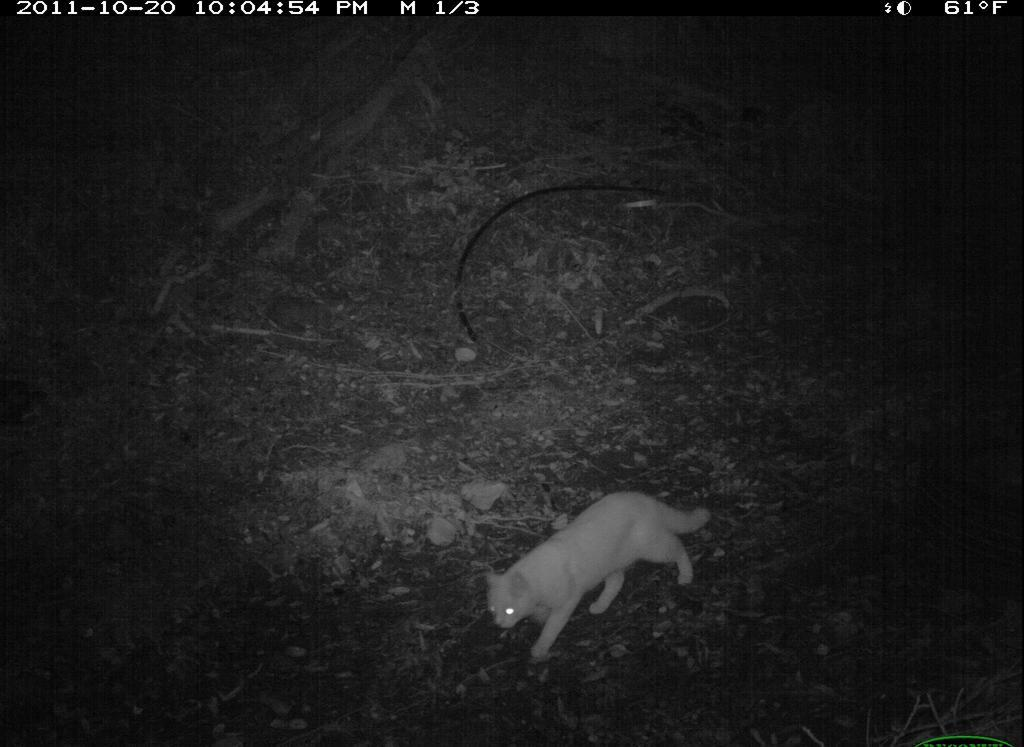cat: (468, 484, 722, 669)
